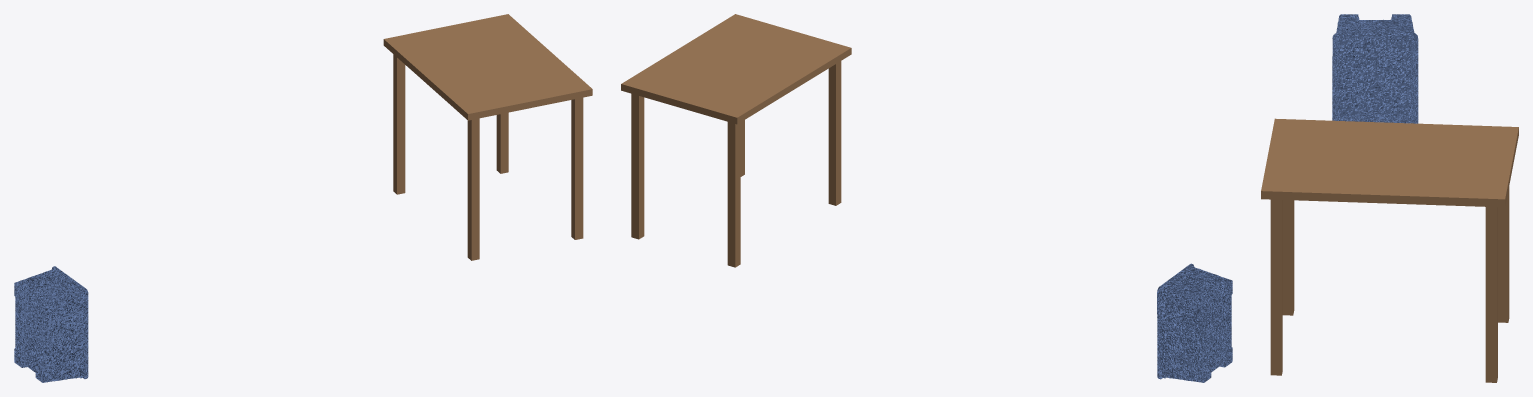
File: h2_06_box_push_props.glb
3 views of the same model, side by side, from view 1: azimuth 30°, elevation 25°; view 2: azimuth 150°, elevation 25°; view 3: azimuth 270°, elevation 25° (orthographic). The views are drawn at different scales.
Parts seen in each view (by area): view 1: s000, o00, s001, s003, s002, s004; view 2: s000, o00, s002, s004, s001; view 3: s000, o00, s003, s004, s001, s002.
Boxes of the visible parts, x1,y1,x2,y2 form: s000: (383,14,592,120); o00: (14,266,88,382); s001: (467,118,479,260); s003: (571,97,583,239); s002: (393,54,405,194); s004: (496,112,508,173); s000: (621,14,851,124); o00: (1157,263,1232,382); s002: (727,122,740,267); s004: (631,93,644,239); s001: (828,61,841,205); s000: (1261,118,1518,207); o00: (1332,14,1418,123); s003: (1270,199,1282,375); s004: (1485,207,1497,382); s001: (1282,200,1294,315); s002: (1498,187,1509,322).
Size of the model in its own units: 3.42 by 1.2 by 1.15.
